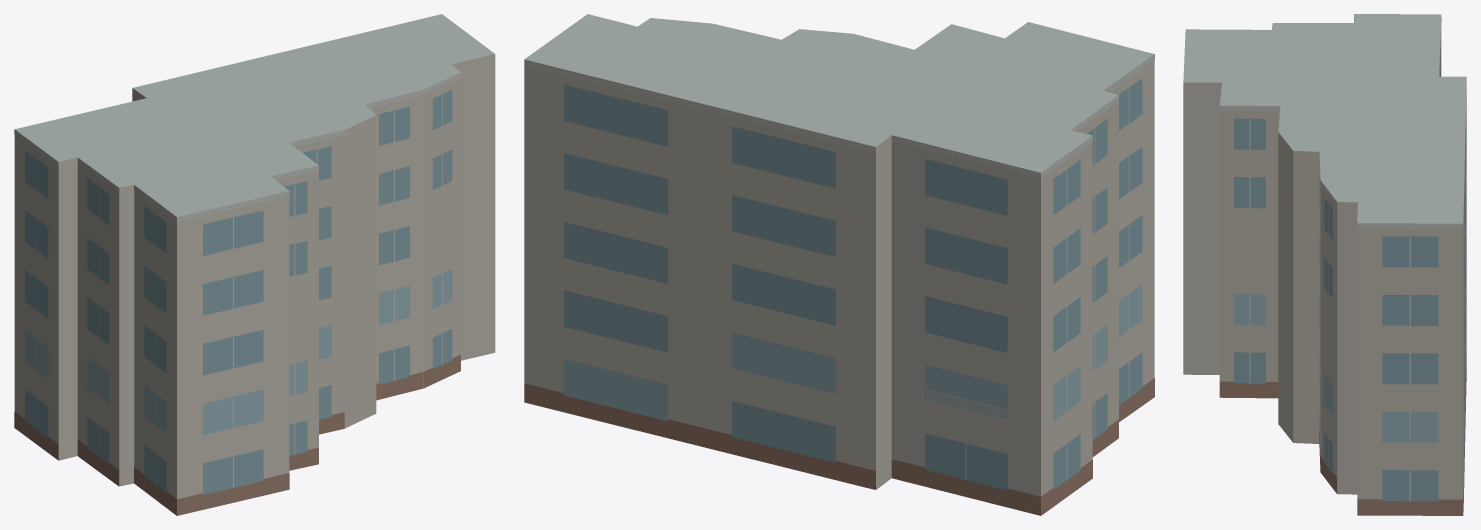
The model's file is survey-upis-32752780.glb.
3 renders of one model, left to right at view 1: azimuth 30°, elevation 25°; view 2: azimuth 150°, elevation 25°; view 3: azimuth 270°, elevation 25°, orthographic. The views are drawn at different scales.
Parts seen in each view (by area): view 1: survey-upis-32752780.tmp; view 2: survey-upis-32752780.tmp; view 3: survey-upis-32752780.tmp.
Part boxes in pixels (bbox=[...]): survey-upis-32752780.tmp: bbox=[14, 14, 495, 515]; survey-upis-32752780.tmp: bbox=[524, 14, 1154, 515]; survey-upis-32752780.tmp: bbox=[1183, 14, 1466, 515].
Size of the model in its own units: 21.86 by 14.2 by 12.49.
